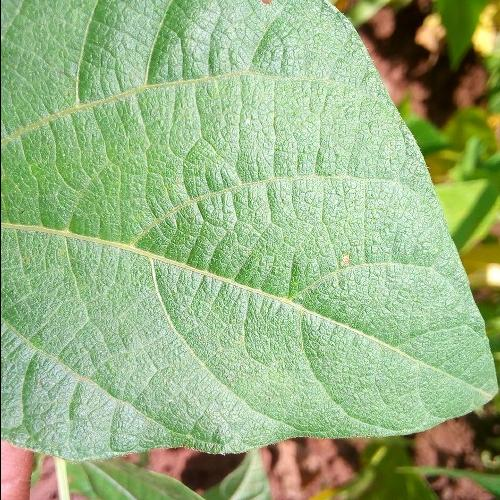sehat: (12, 20, 424, 456)
